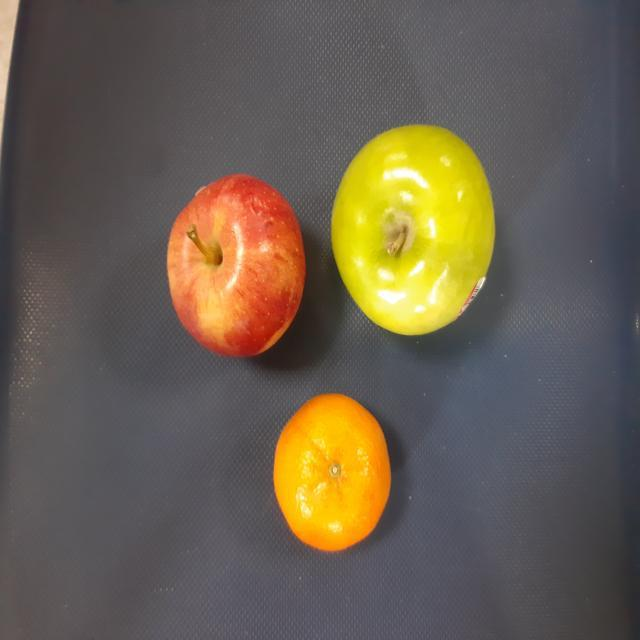Apel Gala: (168, 168, 308, 364)
Apel Granny Smith: (328, 117, 498, 341)
Jeruk Mandarin: (272, 388, 394, 556)
